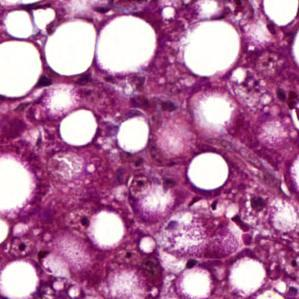steatosis: (100, 13, 159, 80), (185, 22, 239, 81), (56, 104, 102, 149), (189, 149, 233, 195), (115, 114, 154, 152)
